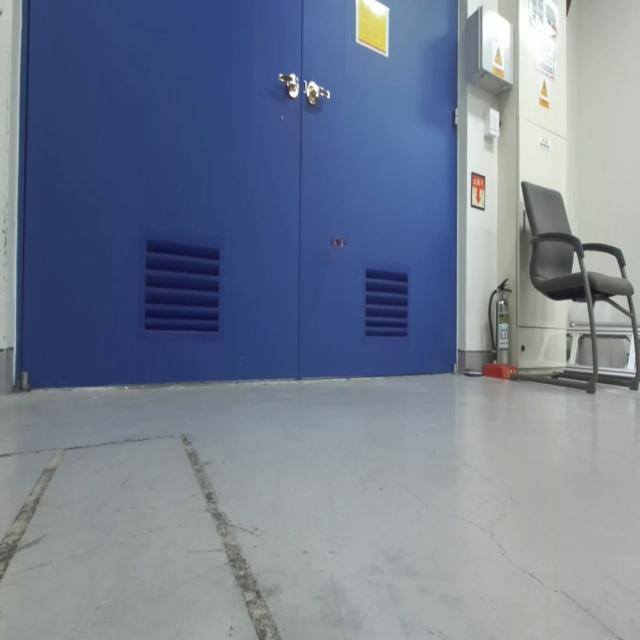crazyflie: (327, 227, 352, 257)
